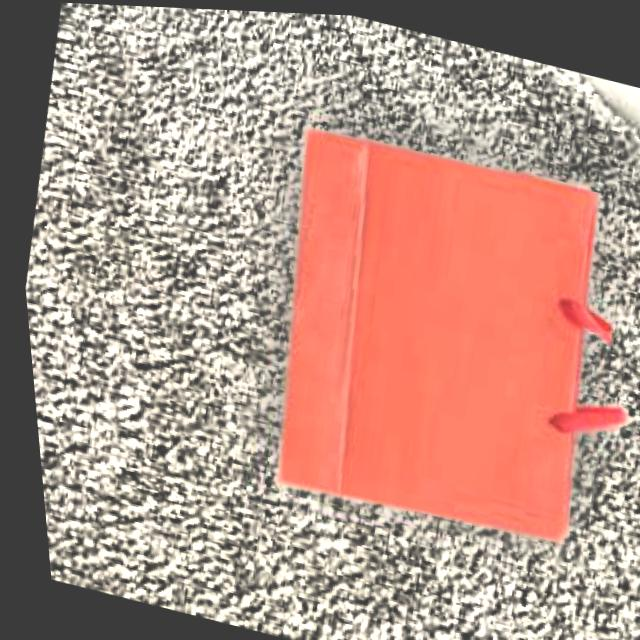Paper-bag: (196, 82, 640, 584)
